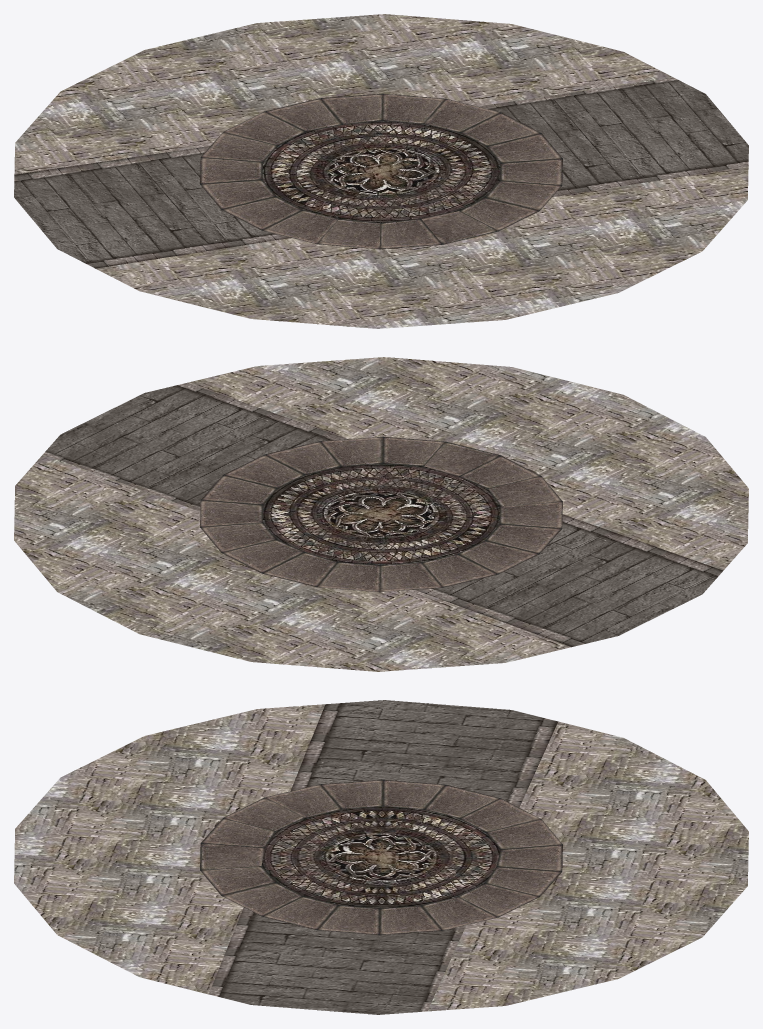
The model's file is floor09.obj.
The picture shows the model from 3 angles, top to bottom: view 1: azimuth 30°, elevation 25°; view 2: azimuth 150°, elevation 25°; view 3: azimuth 270°, elevation 25°; orthographic projection.
Parts seen in each view (by area): view 1: floor09; view 2: floor09; view 3: floor09.
Boxes of the visible parts, left/top/right/bottom form: floor09: left=14, top=14, right=748, bottom=328; floor09: left=14, top=357, right=748, bottom=671; floor09: left=14, top=700, right=748, bottom=1014.
Size of the model in its own units: 420 by 0 by 414.
